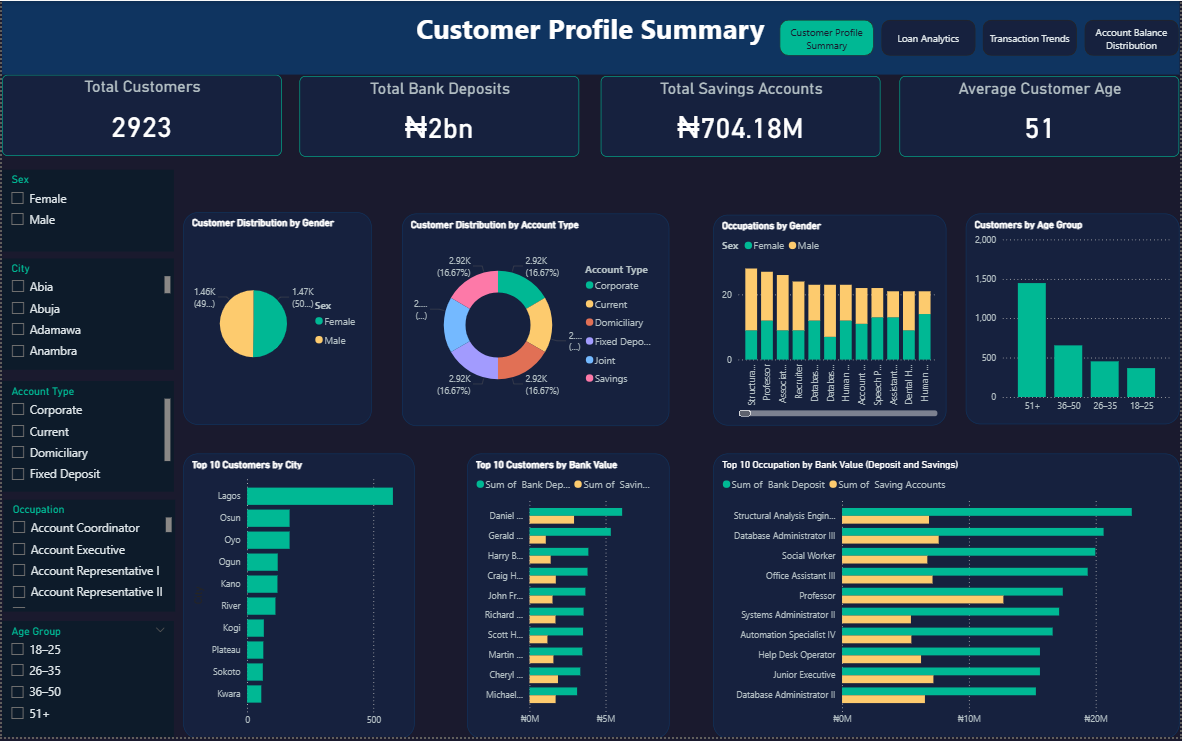

This screenshot's page, from the dashboard's own definition file:
{"tool":"powerbi","page":{"name":"Customer Profile Summary","canvas":[1600,1000],"ordinal":0},"visuals":[{"type":"card","title":"Total Customers","fields":{"Values":["Customer.Total Customers"]},"box":[0,100.5,380,110],"z":0},{"type":"card","title":"Total Bank Deposits ","fields":{"Values":["Customer.Total Bank Deposits"]},"box":[404.4,102.7,380.3,109.3],"z":1000},{"type":"card","title":"Total Savings Accounts","fields":{"Values":["Sum(Customer.Cleaned Saving Accounts)"]},"box":[813.1,102.7,380.3,109.3],"z":2000},{"type":"card","title":"Average Customer Age","fields":{"Values":["Customer.Average Age"]},"box":[1219.7,102.7,380.3,109.3],"z":3000},{"type":"pieChart","title":"Customer Distribution by Gender","fields":{"Category":["Customer.Sex"],"Y":["CountNonNull(Customer.Customer_id)"]},"box":[247,286.3,255.7,288.5],"z":4000},{"type":"columnChart","title":"Occupations by Gender","fields":{"Category":["Customer.Occupation"],"Y":["CountNonNull(Customer.Customer_id)"],"Series":["Customer.Sex"]},"box":[966.1,290.7,316.9,286.3],"z":5000},{"type":"columnChart","title":"Customers by Age Group","fields":{"Y":["CountNonNull(Customer.Customer_id)"],"Category":["Customer.AGE RANGE"]},"box":[1309.3,288.5,290.7,286.3],"z":6000},{"type":"slicer","fields":{"Values":["Customer.Sex"]},"box":[0,229.5,233.9,111.5],"z":7000},{"type":"slicer","fields":{"Values":["Customer.City"]},"box":[0,349.7,233.9,150.8],"z":8000},{"type":"slicer","fields":{"Values":["Accounts.Account Type"]},"box":[0,515.6,233.9,150.5],"z":9000},{"type":"clusteredBarChart","title":"Top 10 Customers by City","fields":{"Category":["Customer.City"],"Y":["CountNonNull(Accounts.Customer_id)"]},"box":[247,614.2,314.8,386.9],"z":10000},{"type":"clusteredBarChart","title":"Top 10 Occupation by Bank Value (Deposit and Savings)","fields":{"Category":["Customer.Occupation"],"Y":["Sum(Customer. Bank Deposit)","Sum(Customer. Saving Accounts)"]},"box":[966.1,614.2,633.9,386.9],"z":11000},{"type":"clusteredBarChart","title":"Top 10 Customers by Bank Value","fields":{"Category":["Customer.Full name"],"Y":["Sum(Customer.Clean Bank Deposit)","Sum(Customer.Cleaned Saving Accounts)"]},"box":[631.7,614.2,275.4,386.9],"z":12000},{"type":"donutChart","title":" Customer Distribution by Account Type","fields":{"Y":["CountNonNull(Customer.Customer_id)"],"Category":["Accounts.Account Type"]},"box":[544.3,288.5,362.8,288.5],"z":13000},{"type":"slicer","fields":{"Values":["Customer.Occupation"]},"box":[1.5,678,233.9,152],"z":14000},{"type":"slicer","fields":{"Values":["Customer.Age Group"]},"box":[0,841.9,233.9,157.9],"z":15000},{"type":"textbox","box":[0,0,1600,100],"z":16000},{"type":"pageNavigator","box":[1056.4,25.5,543.5,49.3],"z":16001}]}

Visuals, with their boxes in screenshot pixels (x1, y1, x2, y2), scaled from the page's 1600x1000 canvas onto the 1182x741 screenshot:
"Total Customers" card: bbox=[0, 74, 281, 156]
"Total Bank Deposits " card: bbox=[299, 76, 580, 157]
"Total Savings Accounts" card: bbox=[601, 76, 882, 157]
"Average Customer Age" card: bbox=[901, 76, 1181, 157]
"Customer Distribution by Gender" pieChart: bbox=[182, 212, 371, 426]
"Occupations by Gender" columnChart: bbox=[714, 215, 948, 428]
"Customers by Age Group" columnChart: bbox=[967, 214, 1181, 426]
slicer - Customer.Sex: bbox=[0, 170, 173, 253]
slicer - Customer.City: bbox=[0, 259, 173, 371]
slicer - Accounts.Account Type: bbox=[0, 382, 173, 494]
"Top 10 Customers by City" clusteredBarChart: bbox=[182, 455, 415, 740]
"Top 10 Occupation by Bank Value (Deposit and Savings)" clusteredBarChart: bbox=[714, 455, 1181, 740]
"Top 10 Customers by Bank Value" clusteredBarChart: bbox=[467, 455, 670, 740]
" Customer Distribution by Account Type" donutChart: bbox=[402, 214, 670, 428]
slicer - Customer.Occupation: bbox=[1, 502, 174, 615]
slicer - Customer.Age Group: bbox=[0, 624, 173, 740]
textbox: bbox=[0, 0, 1181, 74]
pageNavigator: bbox=[780, 19, 1181, 55]
